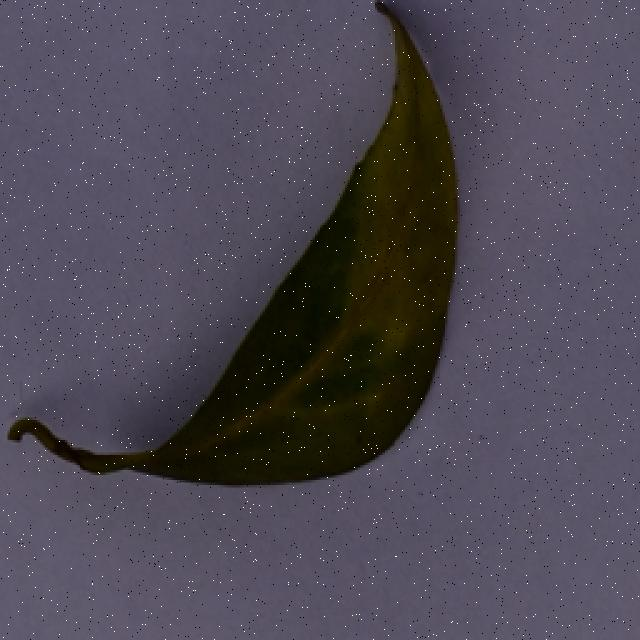greening: (0, 0, 462, 499)
